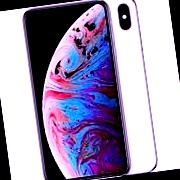iphone: (60, 1, 149, 179)
